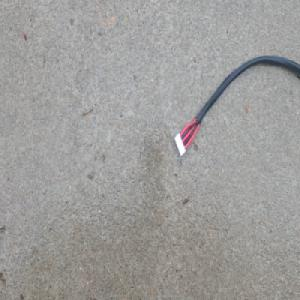Wire: (172, 55, 300, 158)
